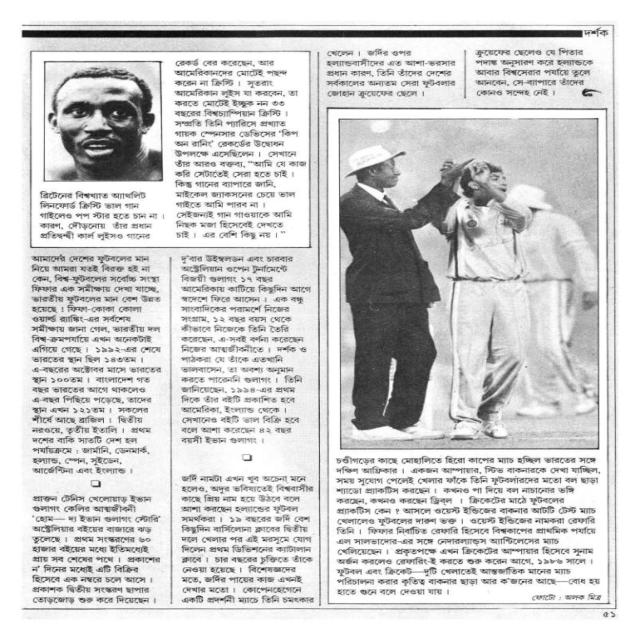image: (330, 117, 600, 450), (40, 61, 162, 183)
page number: (591, 609, 623, 622)
paragraph: (326, 455, 610, 596), (168, 254, 326, 451), (27, 253, 165, 477), (166, 56, 311, 245), (168, 472, 318, 607), (13, 493, 163, 608), (471, 44, 599, 101), (320, 49, 464, 98), (34, 190, 164, 243)
text: (522, 592, 610, 604), (573, 26, 613, 40)
